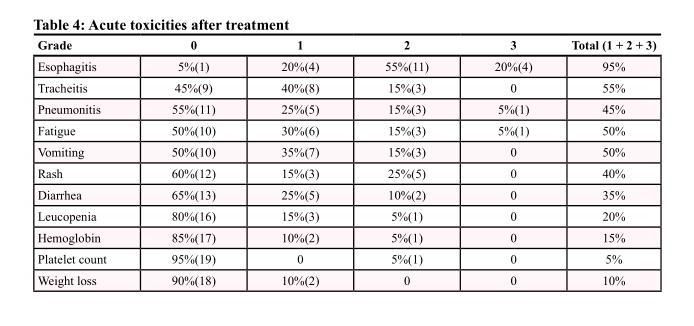table: (36, 37, 655, 286)
table column: (138, 37, 247, 286), (351, 37, 460, 286), (247, 37, 351, 286), (551, 37, 655, 286), (36, 37, 138, 286), (460, 37, 551, 286)
table column header: (36, 37, 655, 54)
table row: (36, 54, 655, 76), (36, 97, 655, 119), (36, 140, 655, 162), (36, 204, 655, 226), (36, 76, 655, 97), (36, 119, 655, 140), (36, 162, 655, 183), (36, 183, 655, 204), (36, 226, 655, 247), (36, 247, 655, 268), (36, 268, 655, 286), (36, 37, 655, 54)
